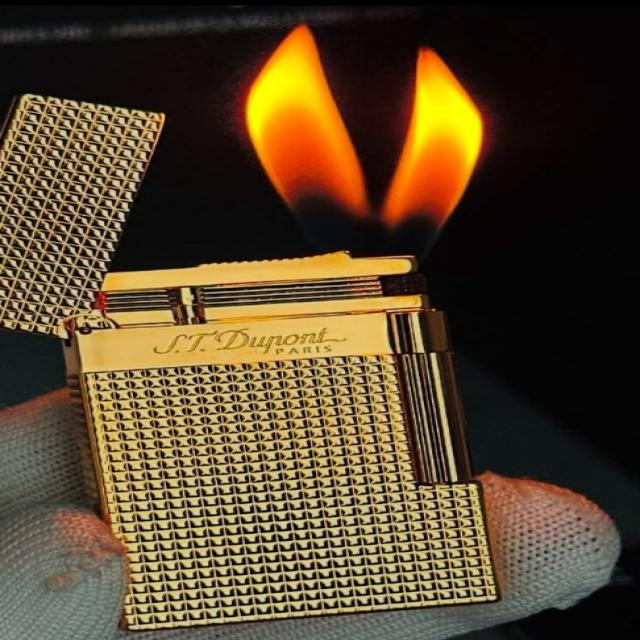fire: (247, 25, 366, 217), (385, 48, 483, 224)
